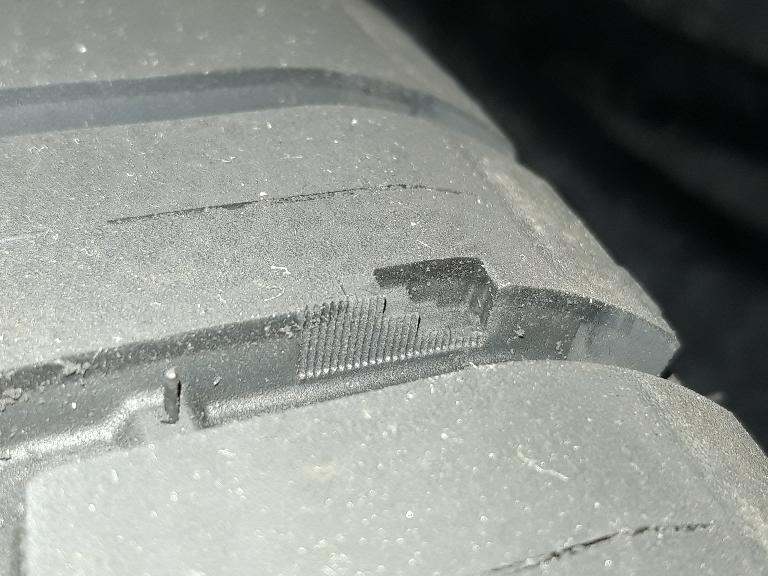temoin:75: (328, 250, 510, 386)
